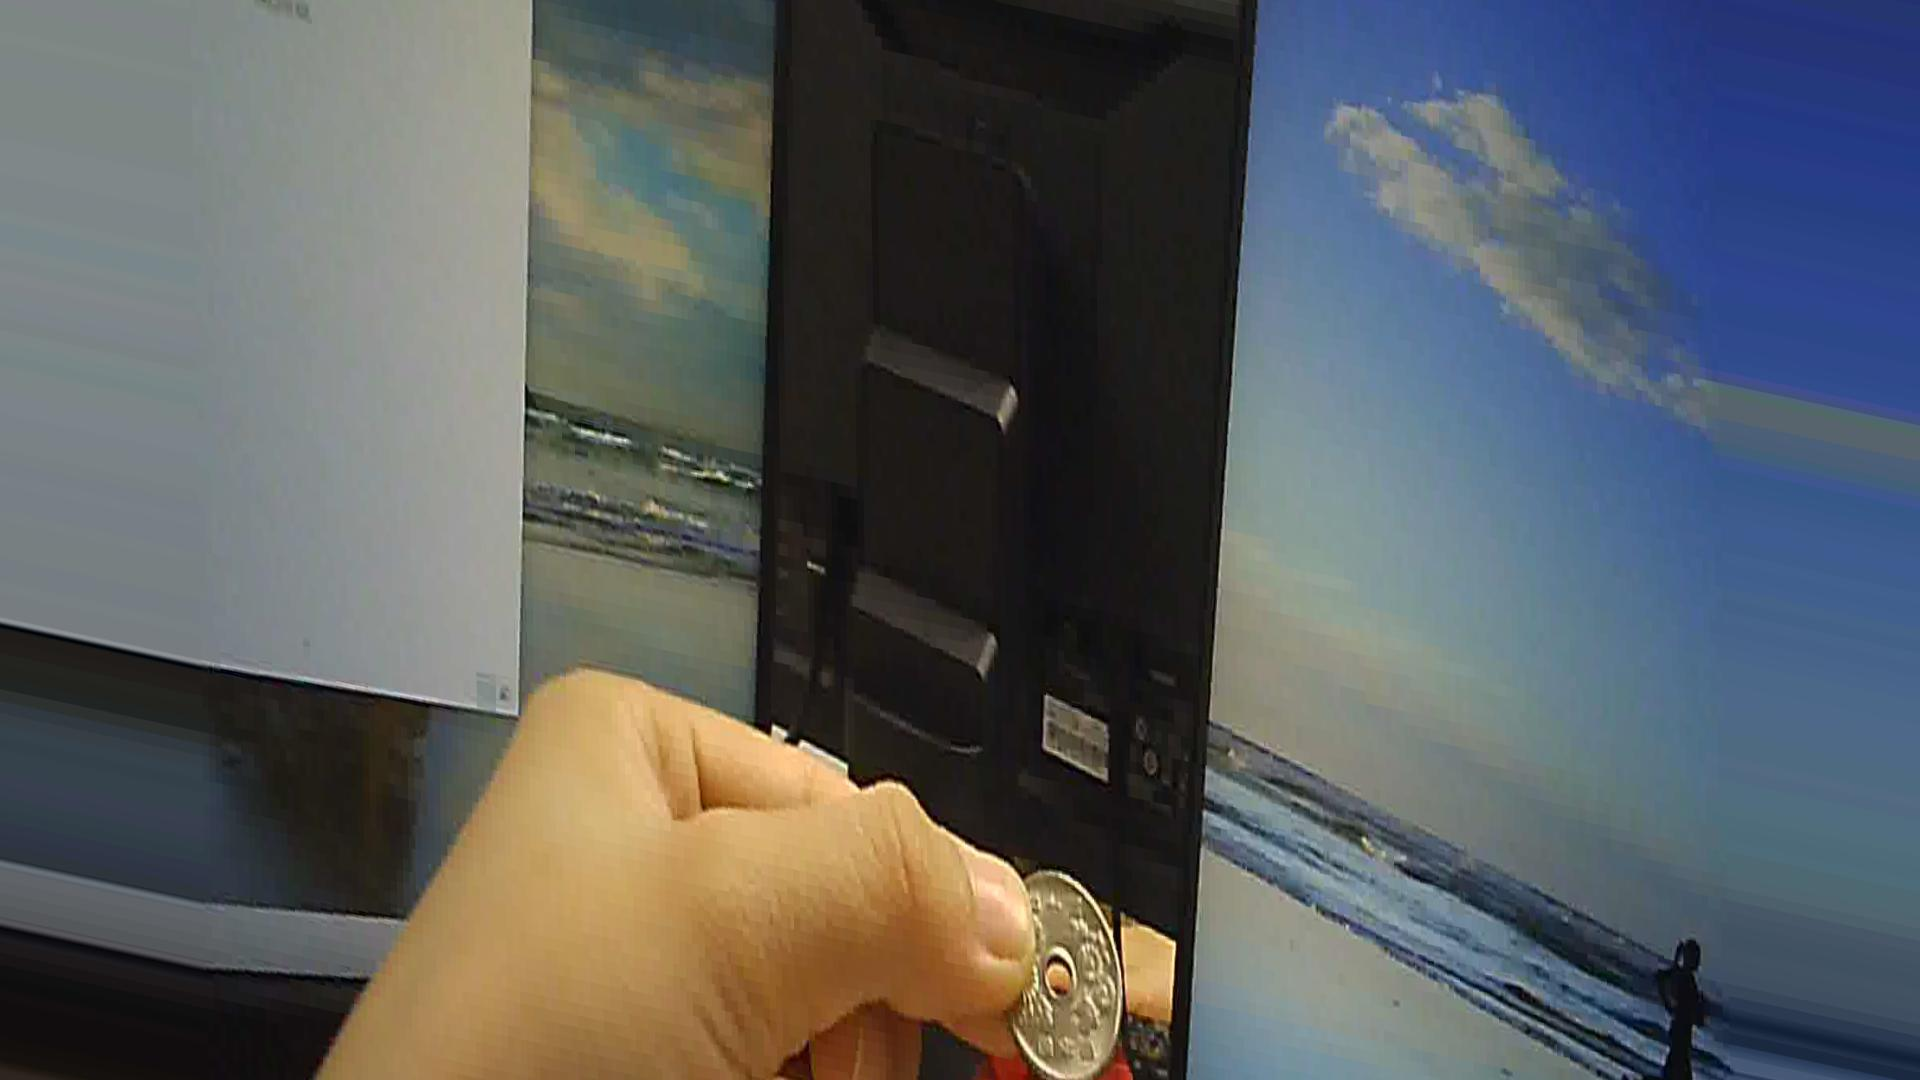50 Yen: (982, 864, 1131, 1071)
